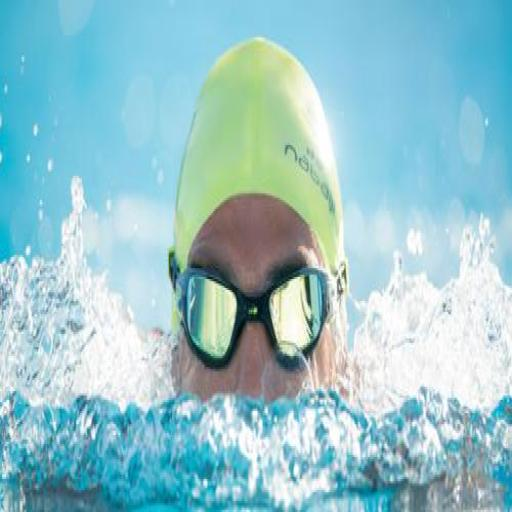swimming: (165, 33, 354, 409)
